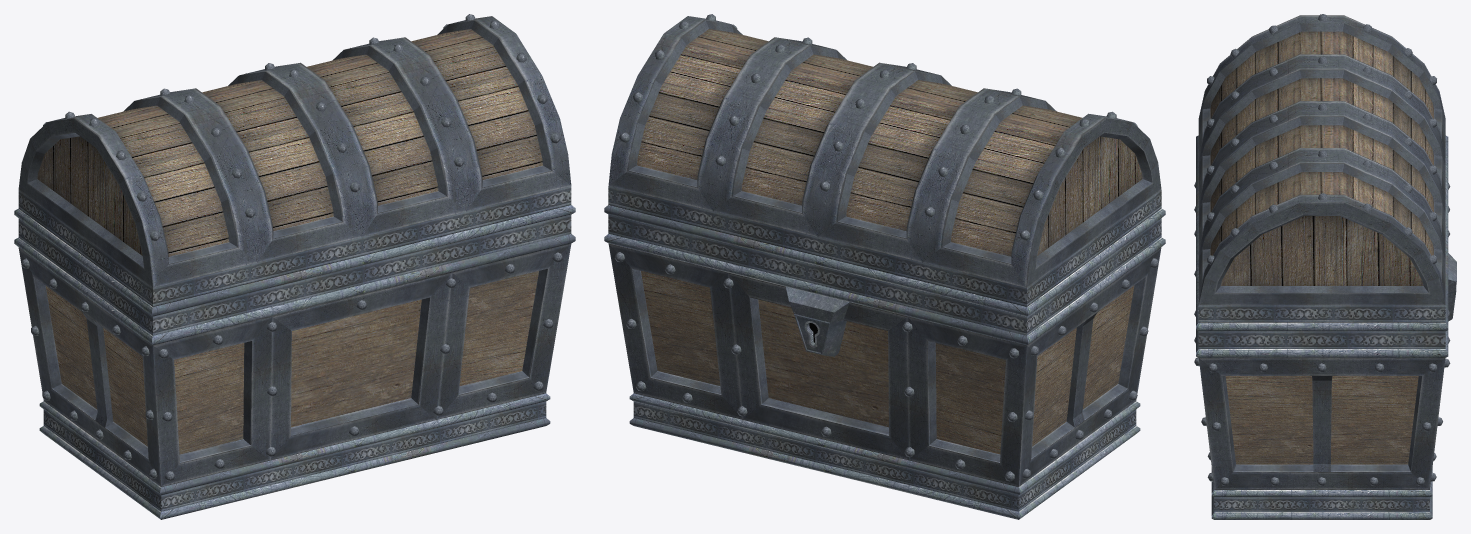
Rendered from Chest.FBX.
3 renders of one model, left to right at view 1: azimuth 30°, elevation 25°; view 2: azimuth 150°, elevation 25°; view 3: azimuth 270°, elevation 25°, orthographic. The views are drawn at different scales.
Visible parts, largest first — view 1: Box14, Object08; view 2: Box14, Object08; view 3: Object08, Box14.
Part boxes in pixels (left/top/right/bottom): Box14: left=14, top=205, right=575, bottom=519; Object08: left=18, top=14, right=571, bottom=306; Box14: left=604, top=205, right=1165, bottom=519; Object08: left=608, top=14, right=1161, bottom=306; Object08: left=1198, top=14, right=1445, bottom=322; Box14: left=1194, top=135, right=1456, bottom=519.
Size of the model in its own units: 158 by 127 by 91.68.
2 materials, 2 textured.
